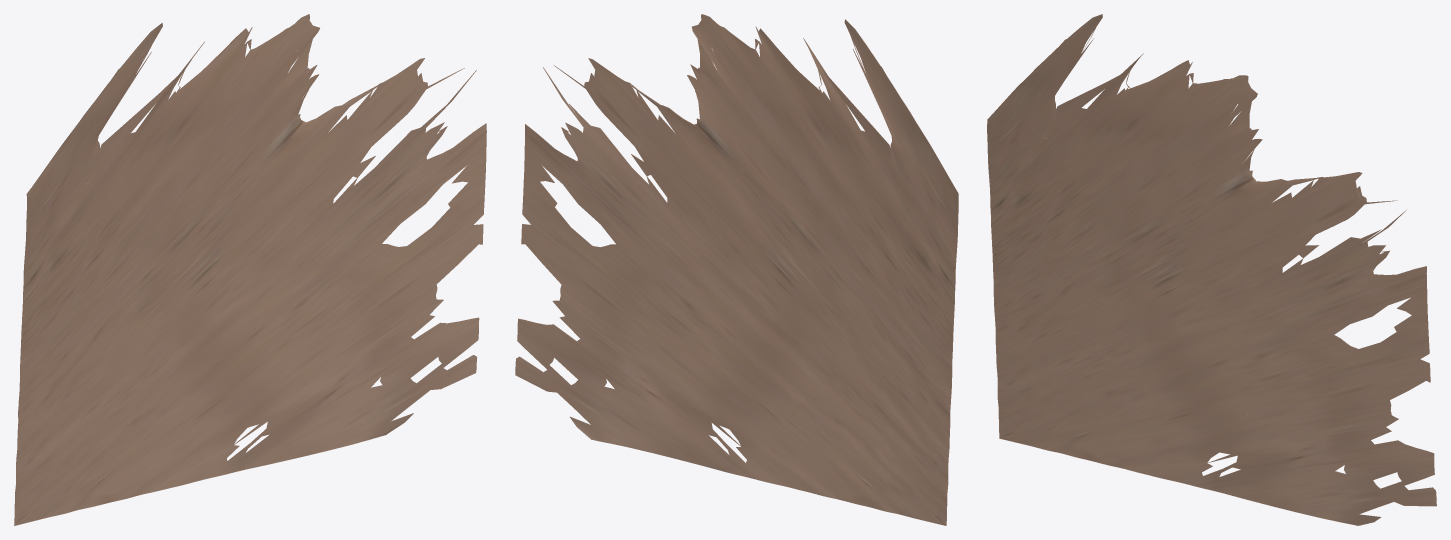
3 views of the same model, side by side, from view 1: azimuth 30°, elevation 25°; view 2: azimuth 150°, elevation 25°; view 3: azimuth 330°, elevation 25° (orthographic). The views are drawn at different scales.
Bounding box in the file's own units: 27.37 × 27.83 × 2.26.
Materials: 1 (1 with a texture image).
